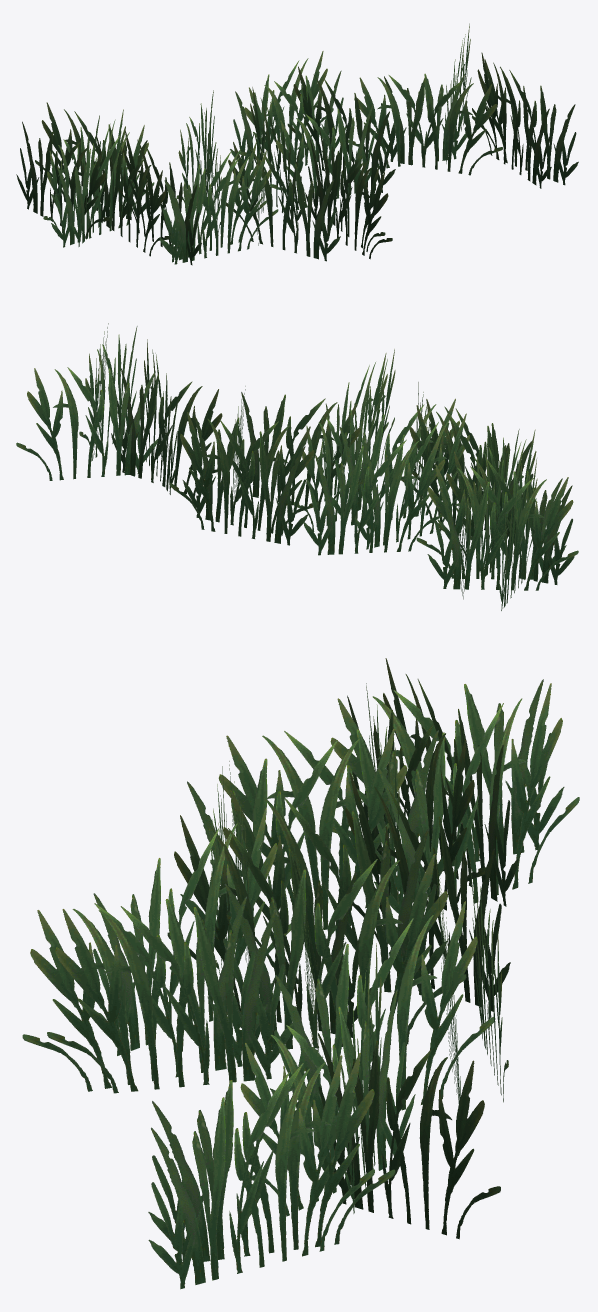
The model's file is 4006_Item_cao_5.FBX.
The picture shows the model from 3 angles, top to bottom: view 1: azimuth 30°, elevation 25°; view 2: azimuth 150°, elevation 25°; view 3: azimuth 270°, elevation 25°; orthographic projection. The views are drawn at different scales.
Parts seen in each view (by area): view 1: 4006_Item_cao_5; view 2: 4006_Item_cao_5; view 3: 4006_Item_cao_5.
Part boxes in pixels (x1,y1,x2,y2): 4006_Item_cao_5: [16, 23, 578, 265]; 4006_Item_cao_5: [16, 323, 578, 610]; 4006_Item_cao_5: [22, 658, 579, 1289].
Bounding box in the file's own units: 289 × 70.6 × 158.
